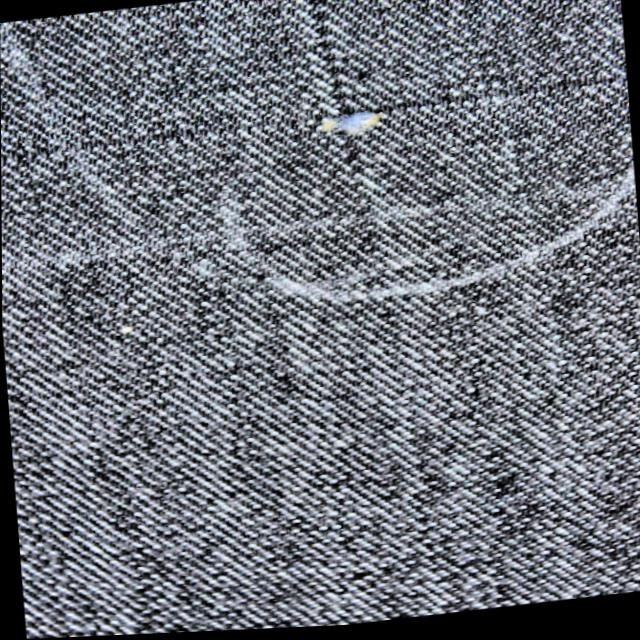Hole: (1, 78, 627, 160), (320, 112, 384, 137)
